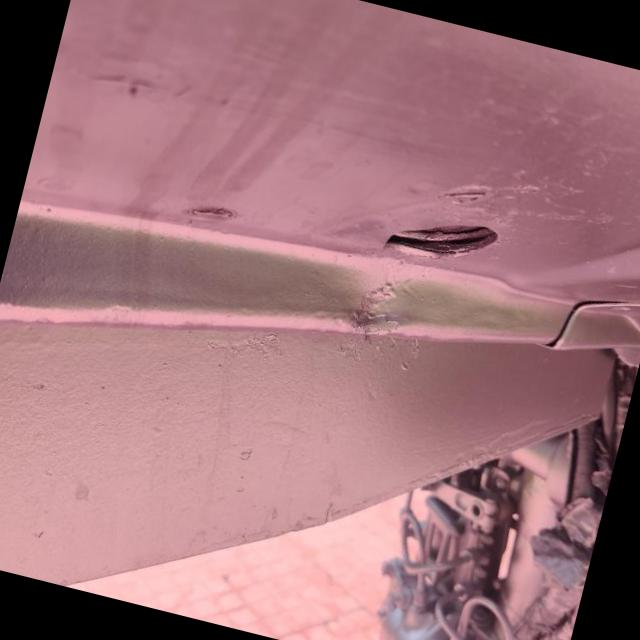Dent: (337, 264, 411, 333)
